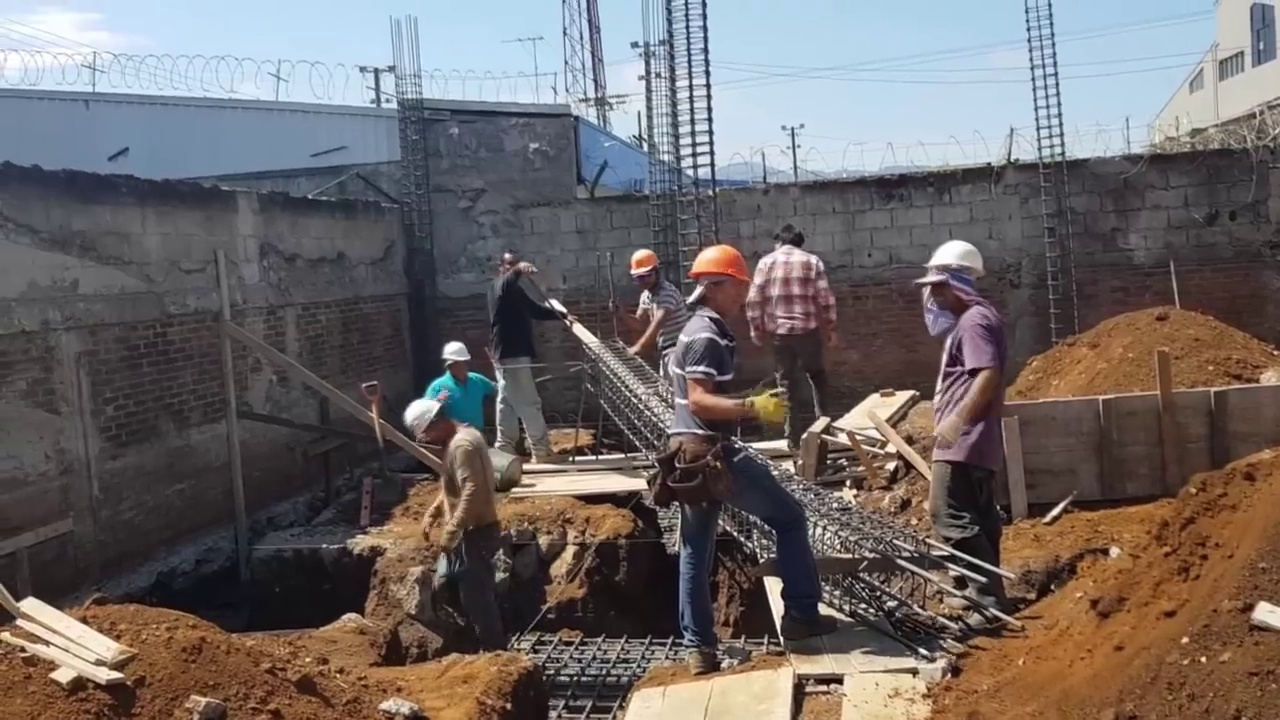helmet: (686, 242, 748, 289), (921, 240, 987, 280), (404, 396, 442, 438), (629, 249, 659, 276), (438, 342, 473, 365)
helmet-off: (772, 222, 805, 255), (497, 252, 522, 280)
helmet-on: (922, 242, 999, 323), (688, 246, 747, 323), (404, 394, 461, 454), (441, 342, 474, 386), (631, 246, 660, 296)
person: (658, 251, 816, 658), (922, 237, 1015, 626), (403, 392, 506, 651), (734, 220, 833, 463), (493, 251, 569, 473), (609, 246, 685, 376), (427, 342, 497, 431)
